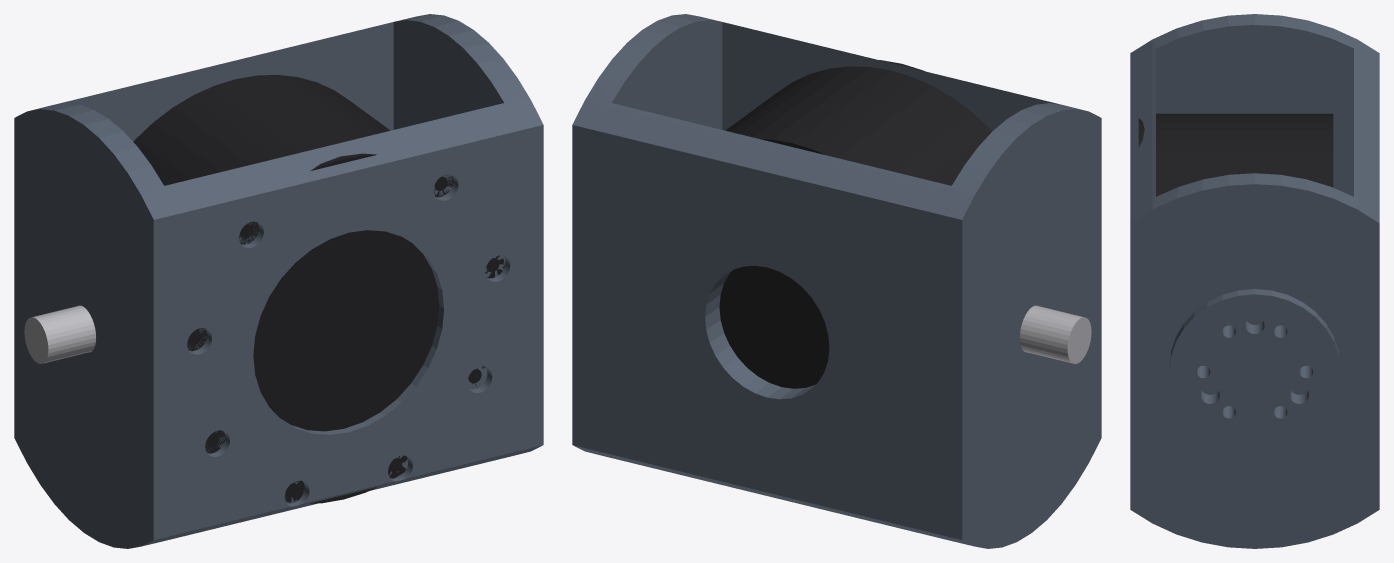
File: hip_roll_R.dae
3 renders of one model, left to right at view 1: azimuth 30°, elevation 25°; view 2: azimuth 150°, elevation 25°; view 3: azimuth 270°, elevation 25°, orthographic. The views are drawn at different scales.
Parts seen in each view (by area): view 1: hip_roll_R-printed, hip_roll_R-motor, hip_roll_R-steel; view 2: hip_roll_R-printed, hip_roll_R-motor, hip_roll_R-steel; view 3: hip_roll_R-printed, hip_roll_R-motor.
Boxes of the visible parts, x1=… form: hip_roll_R-printed: x1=14, y1=14, x2=543, y2=548; hip_roll_R-motor: x1=133, y1=74, x2=504, y2=503; hip_roll_R-steel: x1=24, y1=305, x2=95, y2=363; hip_roll_R-printed: x1=572, y1=14, x2=1101, y2=548; hip_roll_R-motor: x1=719, y1=60, x2=992, y2=388; hip_roll_R-steel: x1=1020, y1=305, x2=1091, y2=363; hip_roll_R-printed: x1=1130, y1=14, x2=1379, y2=548; hip_roll_R-motor: x1=1138, y1=113, x2=1333, y2=196.
Bounding box in the file's own units: 0.1085 × 0.0582 × 0.094.
